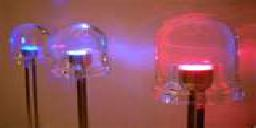LED: (150, 9, 247, 128), (50, 23, 110, 128), (6, 23, 52, 128)
